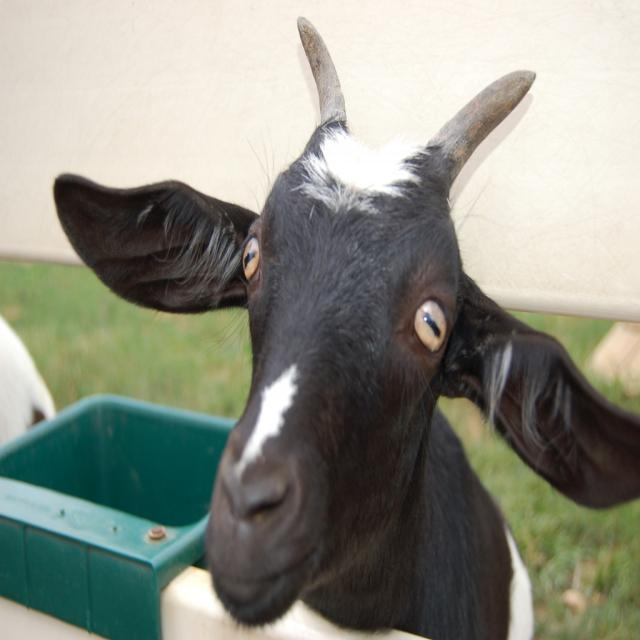Goat: (53, 16, 640, 639)
